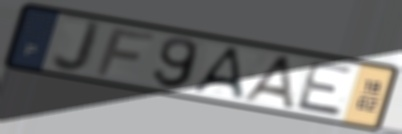9: (151, 37, 202, 91)
A: (237, 53, 297, 111), (189, 45, 247, 103)
E: (293, 59, 357, 119)
F: (93, 26, 158, 79)
J: (50, 18, 106, 75)
